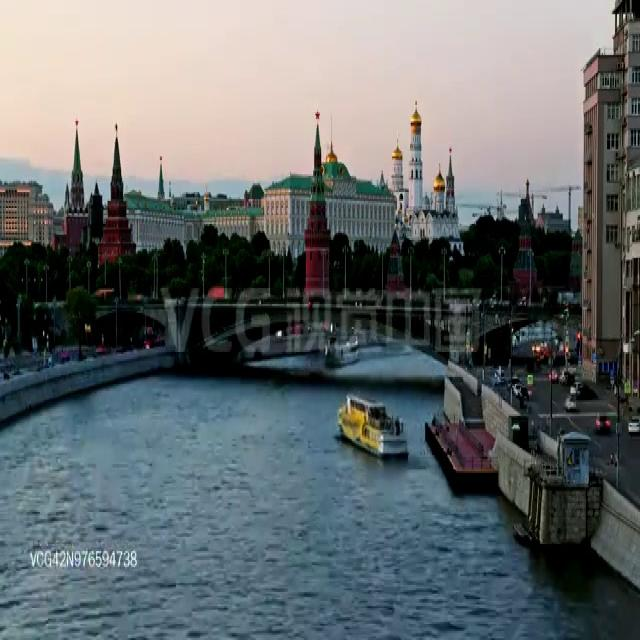passenger ship: (338, 391, 408, 458), (324, 327, 360, 368)
